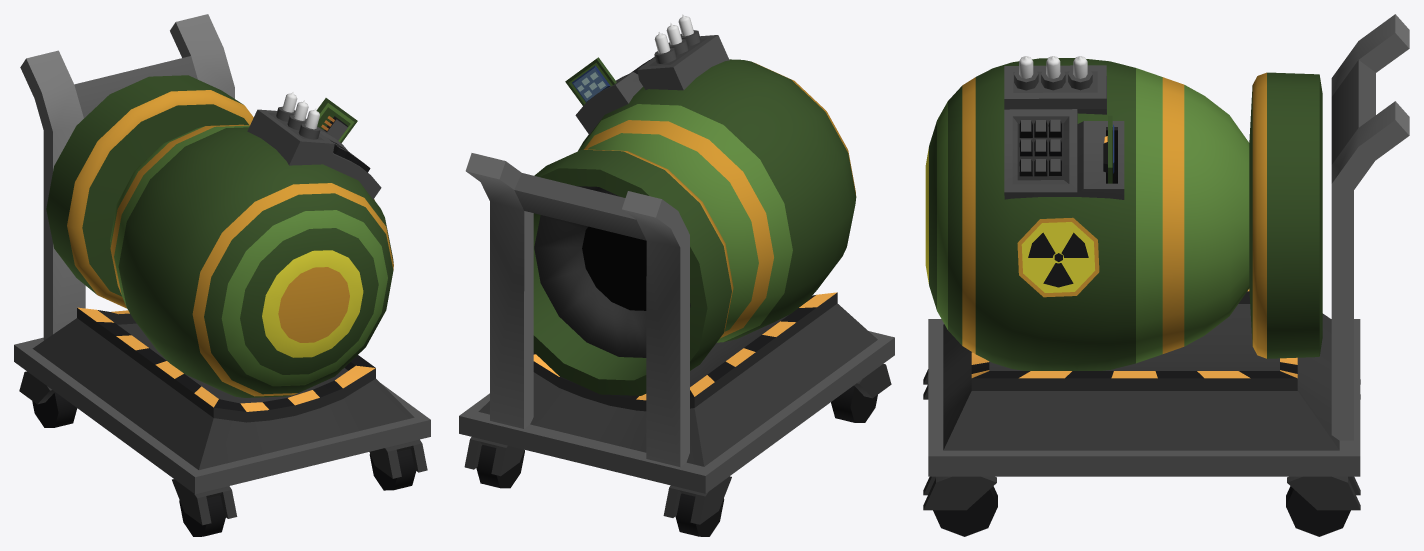
Rendered from Nuke.fbx.
The picture shows the model from 3 angles, left to right: view 1: azimuth 30°, elevation 25°; view 2: azimuth 150°, elevation 25°; view 3: azimuth 270°, elevation 25°; orthographic projection. The views are drawn at different scales.
Parts seen in each view (by area): view 1: Nuke.Nuke, Nuke.Cart, Nuclear Auth Disk; view 2: Nuke.Nuke, Nuke.Cart, Nuclear Auth Disk; view 3: Nuke.Nuke, Nuke.Cart, Nuke.ValveGreen, Nuke.ValveYellow, Nuke.ValveRed, Nuclear Auth Disk.
Boxes of the visible parts, x1,y1,x2,y2 form: Nuke.Nuke: (46,75,393,397); Nuke.Cart: (14,14,430,536); Nuclear Auth Disk: (316,98,357,143); Nuke.Nuke: (533,35,856,395); Nuke.Cart: (459,153,894,536); Nuclear Auth Disk: (565,57,616,105); Nuke.Nuke: (925,58,1322,370); Nuke.Cart: (923,14,1409,536); Nuke.ValveGreen: (1014,56,1038,90); Nuke.ValveYellow: (1041,56,1065,90); Nuke.ValveRed: (1068,56,1092,90); Nuclear Auth Disk: (1103,115,1114,183).
Size of the model in its own units: 0.7295 by 1.09 by 1.08.
